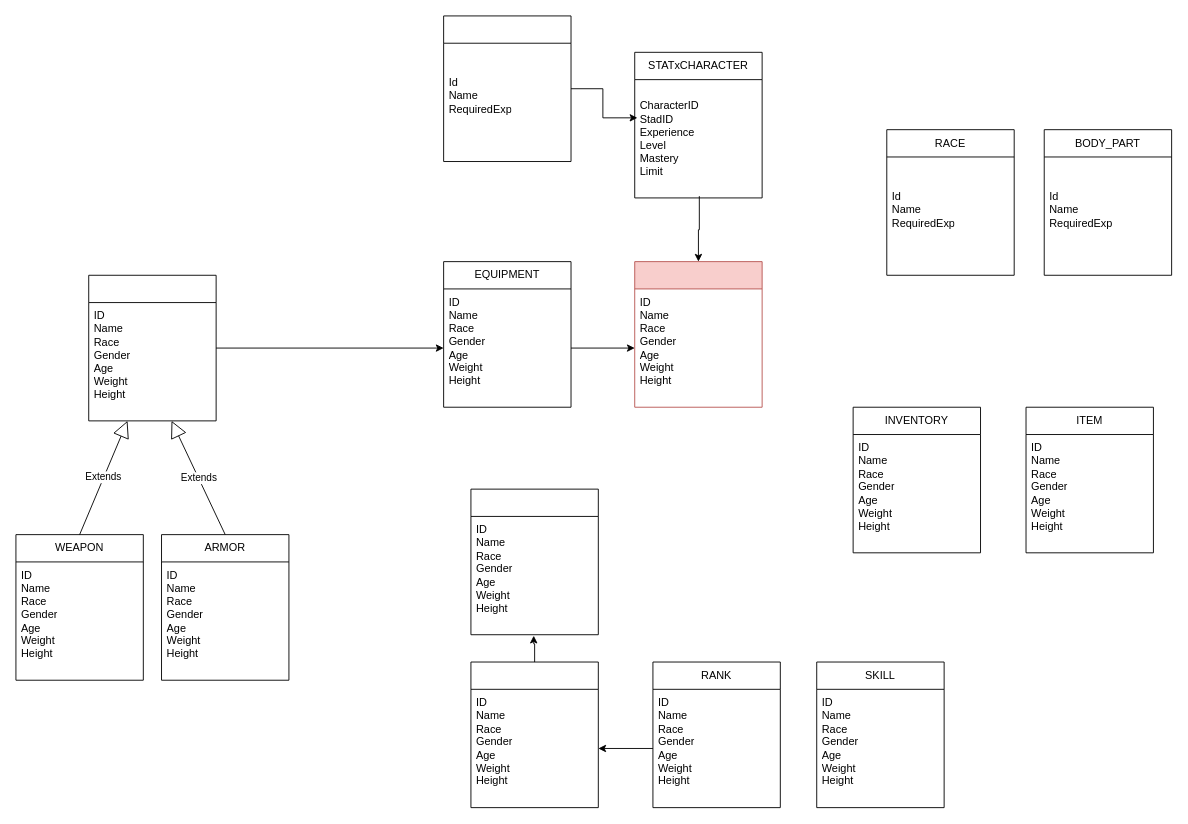
This 1188x824 diagram has some shape labels left out. Here are the shapes that lost their labels. From the top down, the box of each, then its label:
(443, 15, 571, 162): STAT
(88, 274, 216, 421): EQUIPABLE_OBJECT
(634, 261, 762, 407): CHARACTER
(470, 488, 598, 635): SYTLE
(470, 661, 598, 808): CLASS
